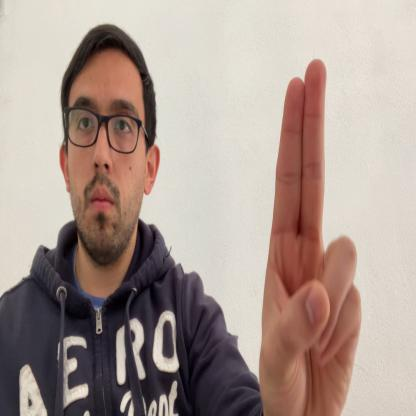U: (259, 57, 361, 415)
